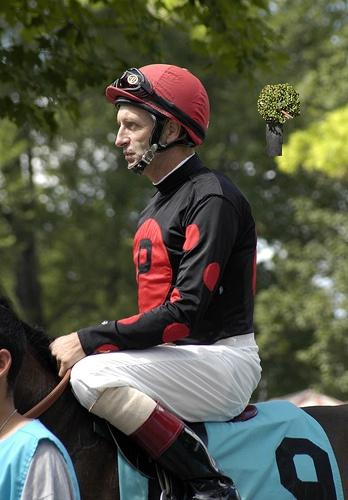tampered: (258, 84, 300, 156)
